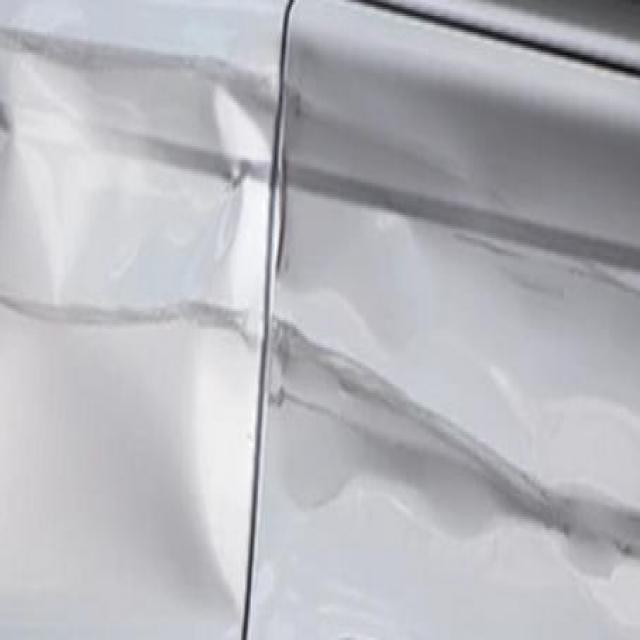dent: (202, 27, 376, 471)
